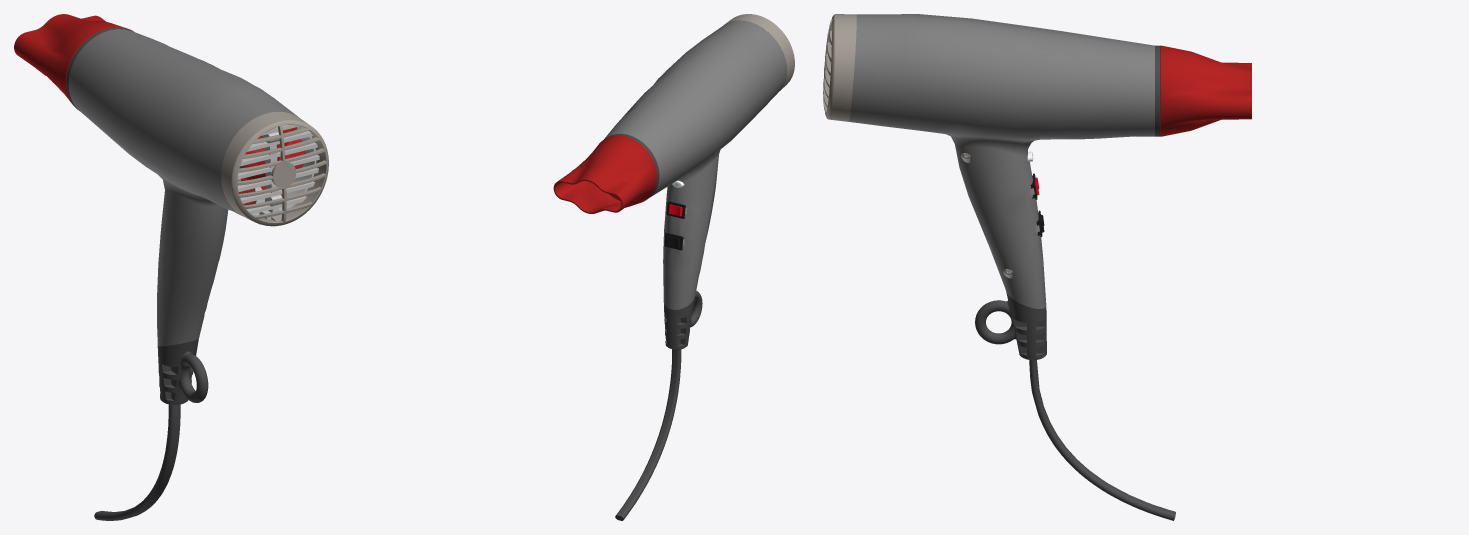
The model's file is HairDryer.fbx.
The picture shows the model from 3 angles, left to right: view 1: azimuth 30°, elevation 25°; view 2: azimuth 150°, elevation 25°; view 3: azimuth 270°, elevation 25°; orthographic projection. The views are drawn at different scales.
Visible parts, largest first — view 1: Part1b2_2, Part1b3, Part1b2_1, Part1c, Swert2, propeller, ring; view 2: Part1b2_2, Swert2, Part1b2_1, Part1c, Part1b3; view 3: Part1b2_1, Swert2, Part1c, Part1b3, Part1b2_2.
Part boxes in pixels (x1=…): Part1b2_2: x1=68, y1=30, x2=277, y2=346; Part1b3: x1=221, y1=112, x2=328, y2=226; Part1b2_1: x1=110, y1=29, x2=319, y2=341; Part1c: x1=94, y1=339, x2=208, y2=520; Swert2: x1=14, y1=14, x2=133, y2=109; propeller: x1=238, y1=127, x2=305, y2=205; ring: x1=66, y1=27, x2=133, y2=109; Part1b2_2: x1=628, y1=21, x2=786, y2=309; Swert2: x1=553, y1=135, x2=656, y2=213; Part1b2_1: x1=604, y1=20, x2=747, y2=309; Part1c: x1=615, y1=291, x2=702, y2=520; Part1b3: x1=725, y1=14, x2=794, y2=90; Part1b2_1: x1=849, y1=19, x2=1154, y2=308; Swert2: x1=1160, y1=45, x2=1251, y2=136; Part1c: x1=975, y1=292, x2=1175, y2=520; Part1b3: x1=823, y1=14, x2=856, y2=121; Part1b2_2: x1=856, y1=14, x2=1154, y2=49.
Bounding box in the file's own units: 40.18 × 81.55 × 93.26.
